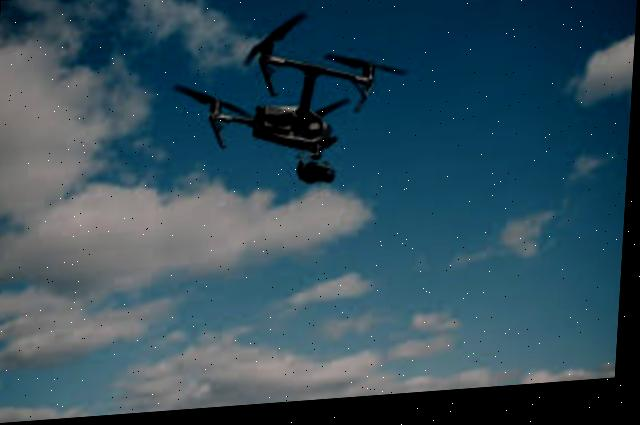drone: (171, 16, 417, 201)
